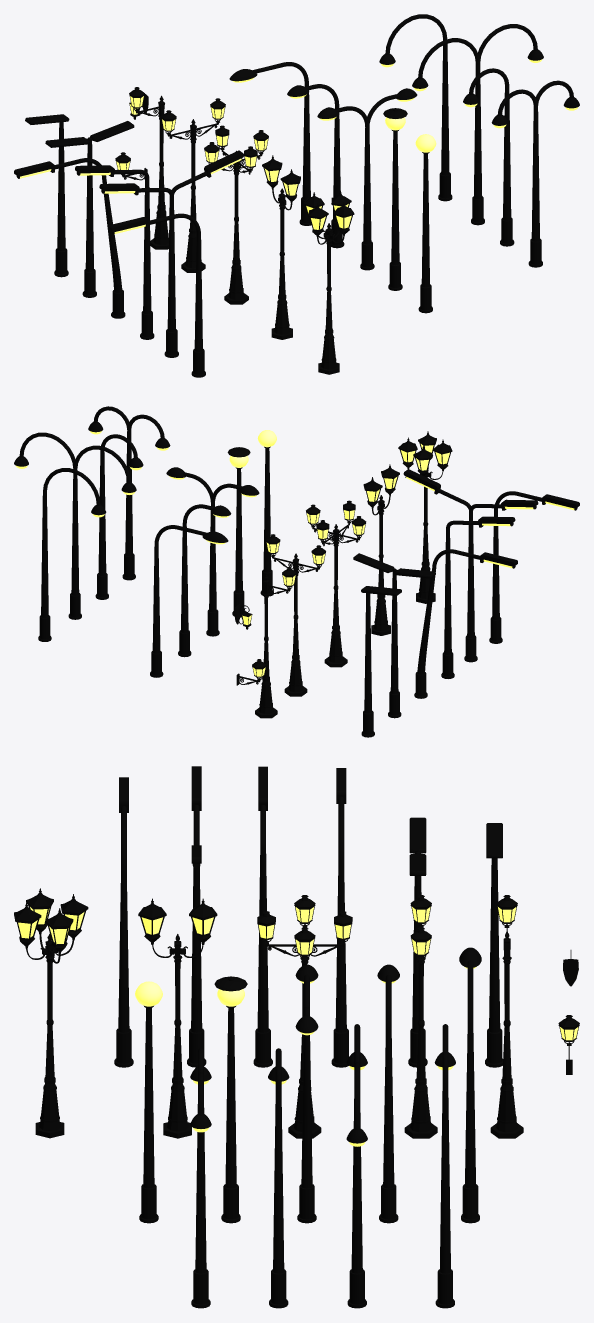
File: simple_collection_of_low_poly_street_lights_v3.glb
The picture shows the model from 3 angles, top to bottom: view 1: azimuth 30°, elevation 25°; view 2: azimuth 150°, elevation 25°; view 3: azimuth 270°, elevation 25°; orthographic projection. The views are drawn at different scales.
Parts seen in each view (by area): view 1: FarolaDe4, FarolaModernaRodonaDe1.006, FarolaModernaRodonaDe1.008, FarolaDe1.006, FarolaModernaRodonaDe1.009, FarolaDe2, FarolaModernaRodonaDe2, FarolaModernaDe2, FarolaModernaRodonaDe1.005, FarolaModernaRodonaDe1.003, FarolaDe1.001, FarolaModernaRodonaDe1.004 (+8 smaller); view 2: FarolaDe1.006, FarolaModernaRodonaDe1.008, FarolaModernaRodonaDe1.006, FarolaDe4, FarolaModernaRodonaDe1.009, FarolaDe1.001, FarolaModernaDe2, FarolaDe2, FarolaModernaRodonaDe1.005, FarolaModernaRodonaDe2, FarolaModernaRodonaDe1.002, FarolaModernaRodonaDe1.004 (+8 smaller); view 3: FarolaDe4, FarolaDe2, FarolaDe1.006, FarolaModernaRodonaDe1.008, FarolaModernaBola.001, FarolaDe1.001, FarolaModernaRodonaDe1.005, FarolaModernaRodonaDe1.009, FarolaModernaRodonaDe2, FarolaModernaRodonaDe1.001, FarolaModernaBola, FarolaModernaDe1 (+8 smaller).
Part boxes in pixels (box(x1,y1,x2,y2)): FarolaDe4: box(303, 190, 354, 374); FarolaModernaRodonaDe1.006: box(99, 150, 244, 357); FarolaModernaRodonaDe1.008: box(412, 24, 543, 225); FarolaDe1.006: box(204, 125, 268, 304); FarolaModernaRodonaDe1.009: box(491, 80, 579, 267); FarolaDe2: box(262, 155, 300, 339); FarolaModernaRodonaDe2: box(317, 88, 417, 270); FarolaModernaDe2: box(45, 121, 134, 297); FarolaModernaRodonaDe1.005: box(379, 14, 452, 201); FarolaModernaRodonaDe1.003: box(108, 213, 205, 377); FarolaDe1.001: box(161, 98, 225, 272); FarolaModernaRodonaDe1.004: box(75, 165, 154, 339); FarolaDe1.006: box(306, 500, 366, 667); FarolaModernaRodonaDe1.008: box(14, 432, 136, 619); FarolaModernaRodonaDe1.006: box(403, 469, 538, 662); FarolaDe4: box(398, 431, 452, 603); FarolaModernaRodonaDe1.009: box(88, 406, 170, 580); FarolaDe1.001: box(266, 534, 325, 696); FarolaModernaDe2: box(353, 553, 435, 718); FarolaDe2: box(363, 464, 399, 635); FarolaModernaRodonaDe1.005: box(38, 468, 106, 641); FarolaModernaRodonaDe2: box(166, 467, 259, 636); FarolaModernaRodonaDe1.002: box(414, 549, 517, 698); FarolaModernaRodonaDe1.004: box(441, 516, 515, 678); FarolaDe4: box(14, 888, 88, 1138); FarolaDe2: box(138, 898, 217, 1138); FarolaDe1.006: box(257, 895, 352, 1138); FarolaModernaRodonaDe1.008: box(346, 1024, 367, 1308); FarolaModernaBola.001: box(214, 976, 247, 1223); FarolaDe1.001: box(404, 895, 437, 1138); FarolaModernaRodonaDe1.005: box(434, 1024, 455, 1308); FarolaModernaRodonaDe1.009: box(190, 1048, 211, 1308); FarolaModernaRodonaDe2: box(295, 964, 318, 1223); FarolaModernaRodonaDe1.001: box(459, 947, 481, 1223); FarolaModernaBola: box(135, 981, 162, 1223); FarolaModernaDe1: box(485, 823, 503, 1067).
Size of the model in its own units: 10.43 by 3.56 by 7.11.
